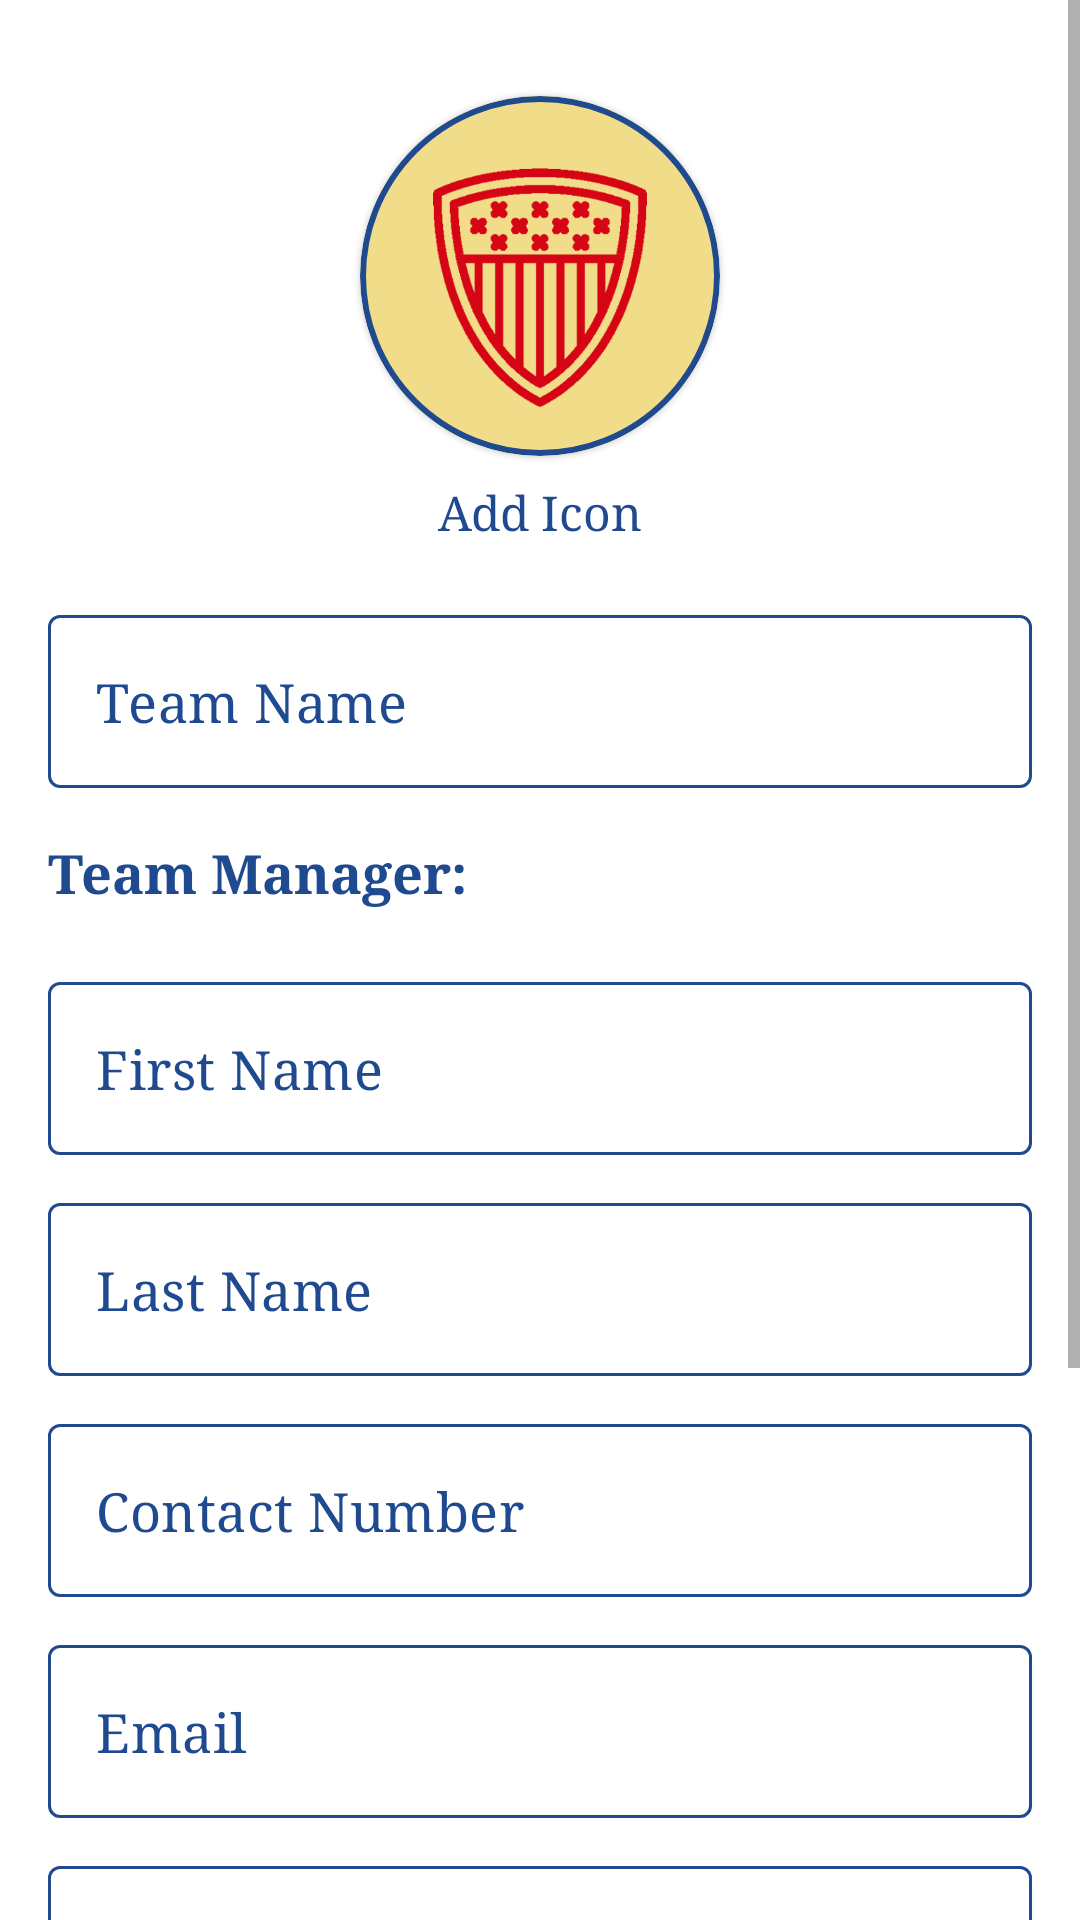

Locate icon controls on the screen. Image size 1080px x 1920px, boxes as (left=x1, top=y1, right=x2, bottom=y2).
add team: (left=360, top=96, right=720, bottom=456)
